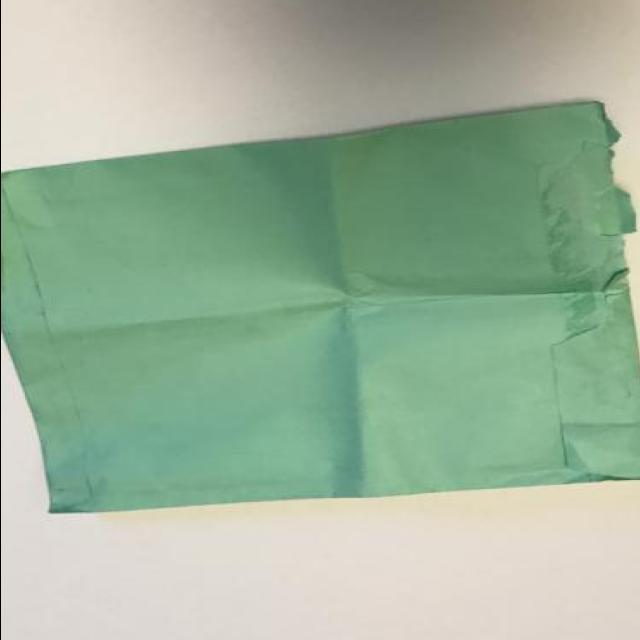kertas: (0, 97, 640, 513)
